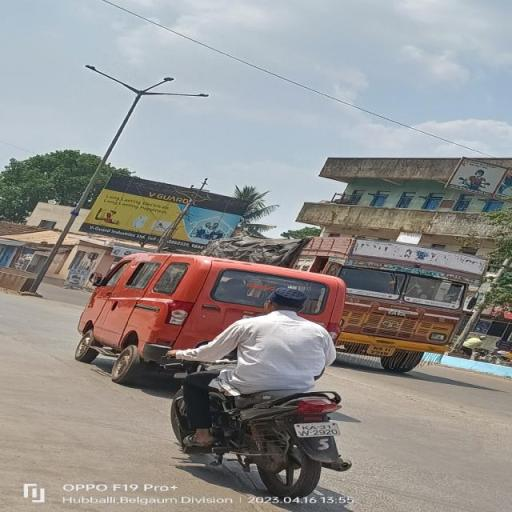bike: (156, 285, 370, 500)
numberplate: (292, 419, 346, 439)
withouthelmet: (270, 288, 306, 314)
